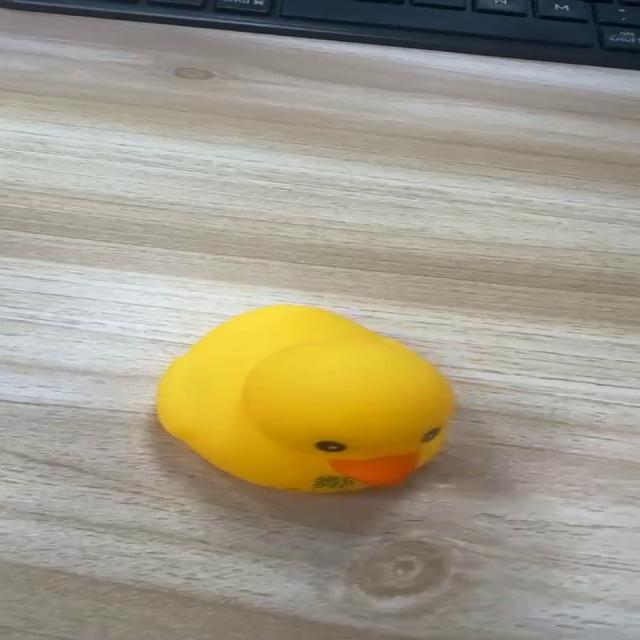yellow_duck: (153, 302, 456, 494)
